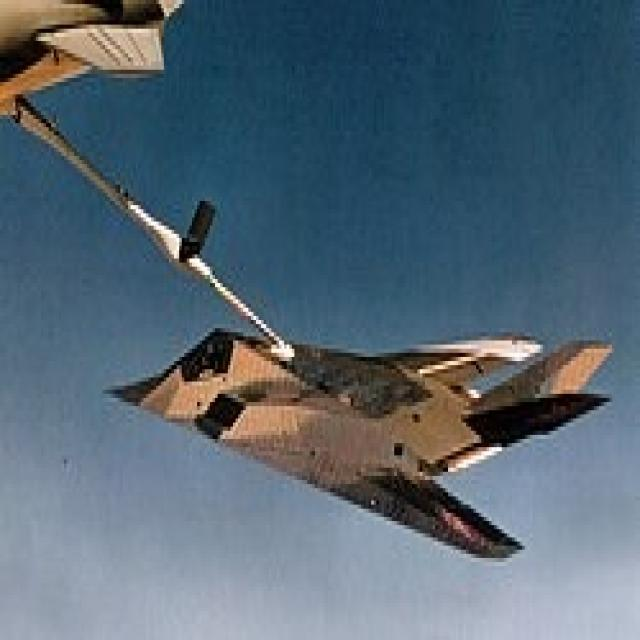F117: (94, 262, 624, 584)
